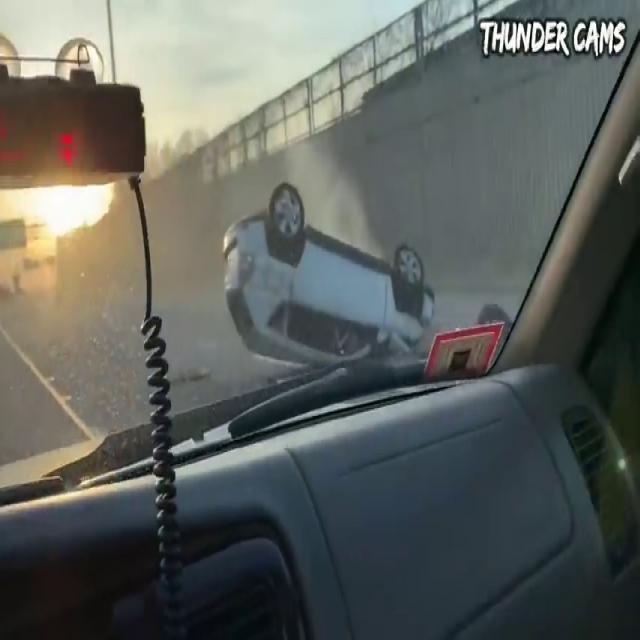accident: (221, 190, 434, 363)
